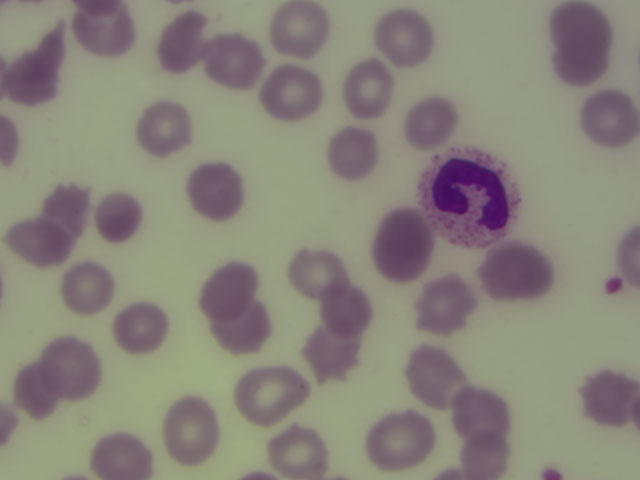Platelets: (600, 274, 627, 302), (539, 463, 565, 480)
RBC: (374, 211, 433, 282), (368, 412, 432, 467), (44, 335, 99, 397), (237, 365, 300, 418), (166, 398, 217, 461), (72, 1, 131, 54), (486, 249, 548, 298), (580, 370, 638, 422), (272, 1, 331, 52), (93, 429, 153, 479), (454, 389, 508, 443), (96, 191, 143, 246), (328, 128, 377, 178), (268, 65, 317, 115), (347, 59, 396, 109), (205, 35, 254, 85), (407, 98, 456, 148), (421, 280, 470, 330), (584, 92, 633, 142), (557, 36, 606, 86), (380, 10, 429, 60), (406, 347, 455, 397), (270, 427, 319, 477), (308, 330, 357, 380), (322, 287, 371, 337), (292, 248, 341, 298), (217, 300, 266, 350), (205, 264, 254, 314), (116, 304, 165, 354), (11, 366, 60, 416), (157, 16, 206, 66), (191, 166, 240, 216), (62, 261, 111, 311), (41, 182, 90, 232), (12, 218, 61, 268), (138, 101, 187, 151), (4, 53, 53, 103), (558, 1, 607, 50), (459, 430, 508, 479), (613, 220, 640, 286)
WBC: (423, 143, 519, 249)
